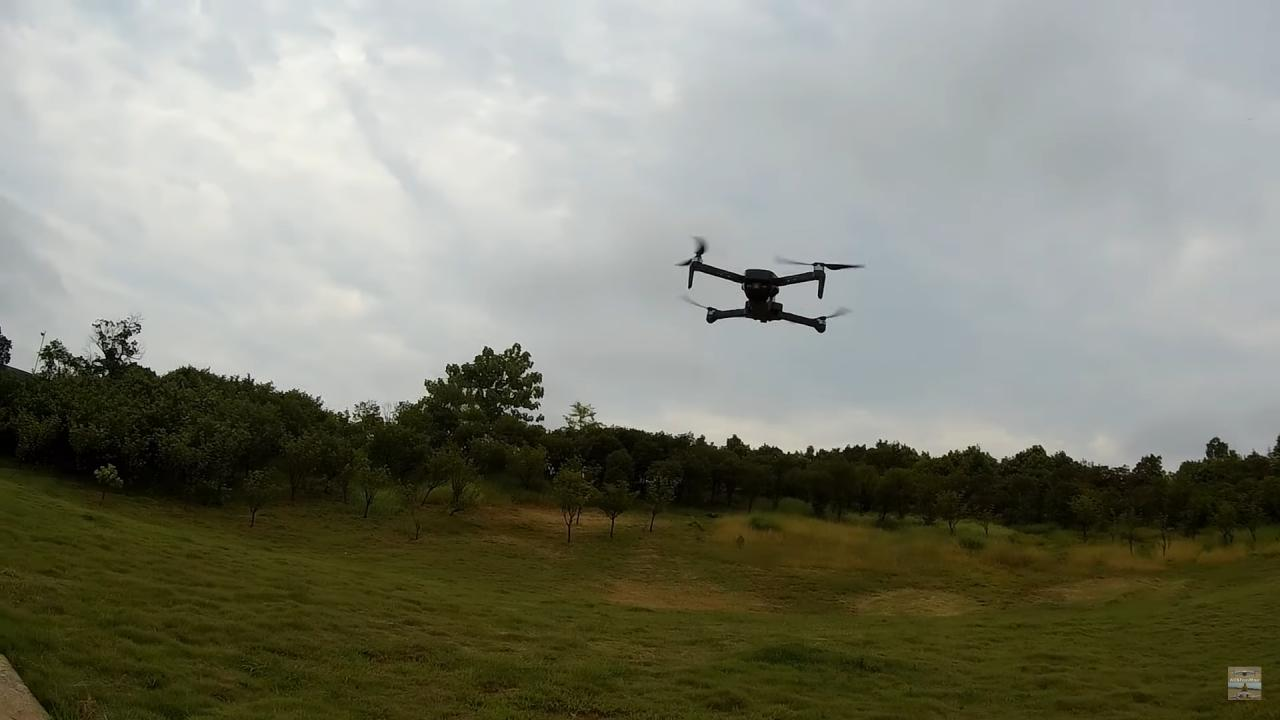Drone: (663, 226, 876, 348)
